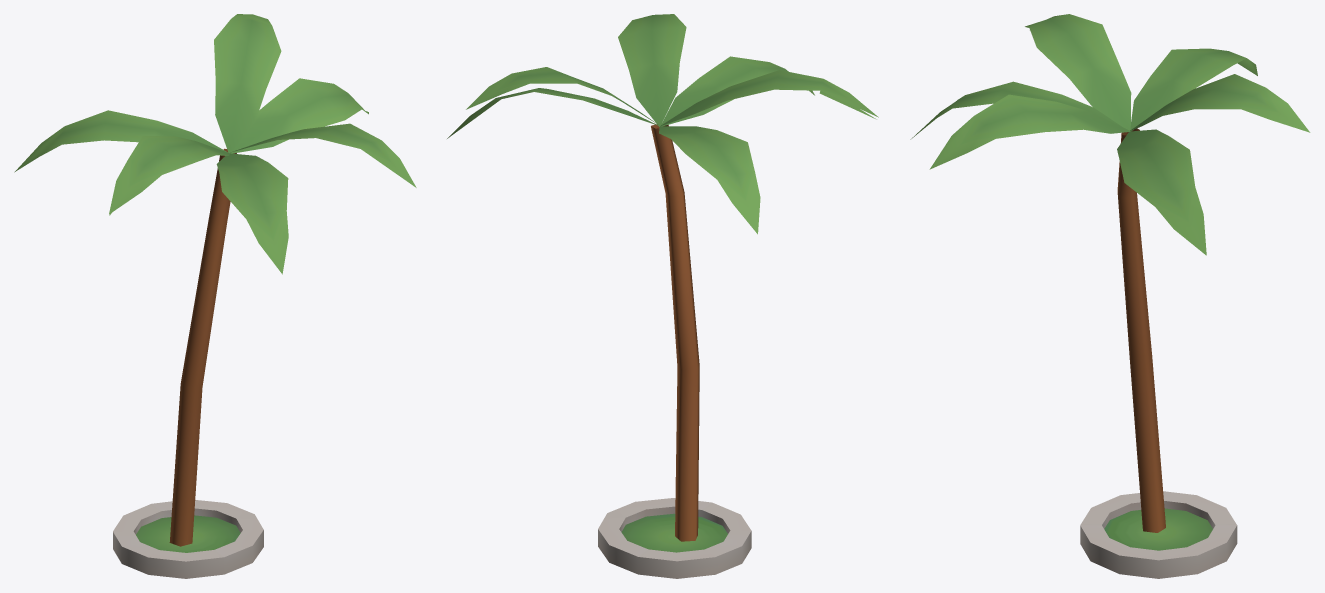
Rendered from PlamSeaport.fbx.
3 renders of one model, left to right at view 1: azimuth 30°, elevation 25°; view 2: azimuth 150°, elevation 25°; view 3: azimuth 270°, elevation 25°, orthographic. The views are drawn at different scales.
Parts seen in each view (by area): view 1: PlamSeaport; view 2: PlamSeaport; view 3: PlamSeaport.
Boxes of the visible parts, x1=… form: PlamSeaport: x1=14, y1=14, x2=416, y2=578; PlamSeaport: x1=447, y1=14, x2=878, y2=578; PlamSeaport: x1=910, y1=14, x2=1310, y2=578.
Size of the model in its own units: 2.63 by 3.46 by 2.48.
